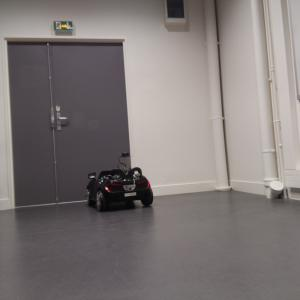big: (85, 168, 155, 214)
